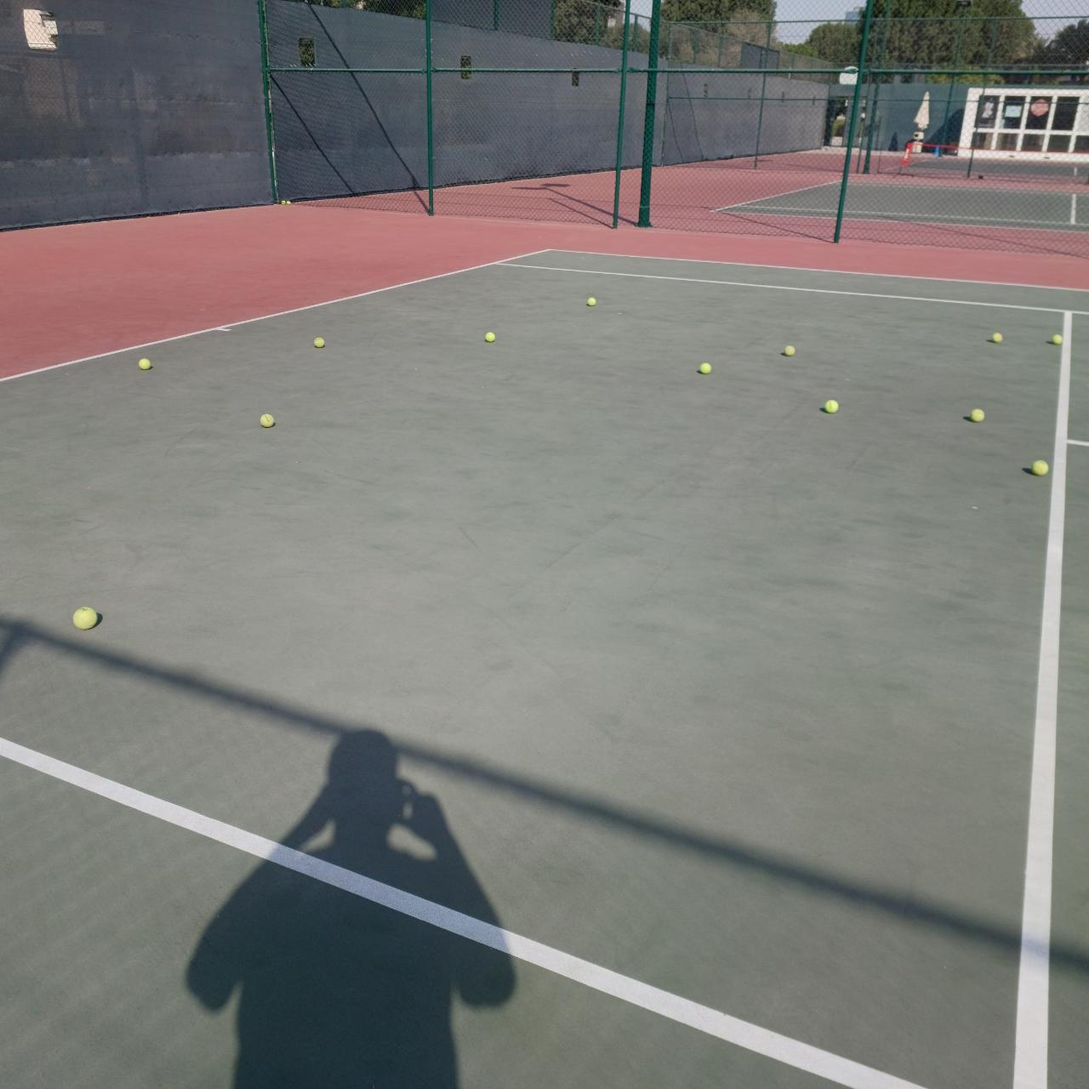tennis-ball: (72, 605, 99, 631), (1033, 458, 1051, 476), (260, 413, 274, 428), (824, 399, 839, 413), (991, 330, 1005, 344), (971, 408, 985, 422), (138, 357, 152, 369), (699, 362, 711, 375), (485, 331, 496, 343), (784, 345, 795, 356), (1052, 334, 1063, 345), (314, 337, 325, 348), (587, 297, 596, 306), (281, 200, 286, 205), (287, 200, 291, 205)
